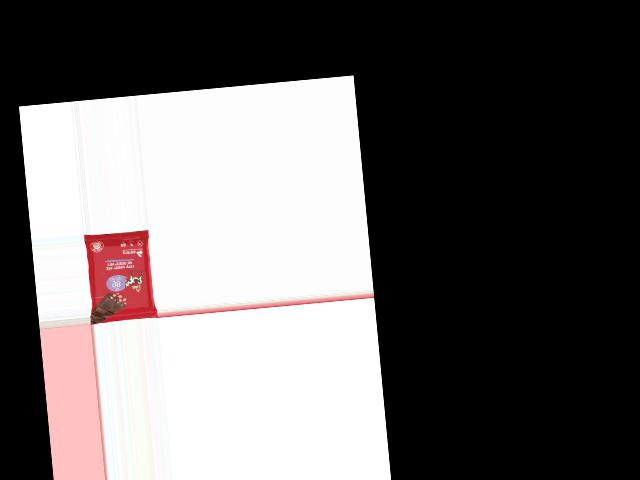chocolate: (85, 228, 157, 323)
